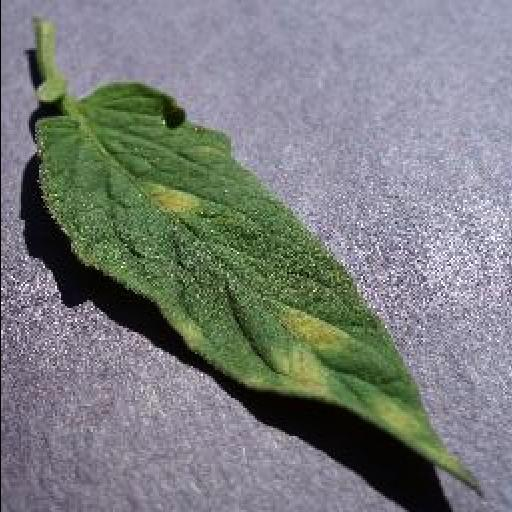disease_tomato: (34, 84, 490, 496)
